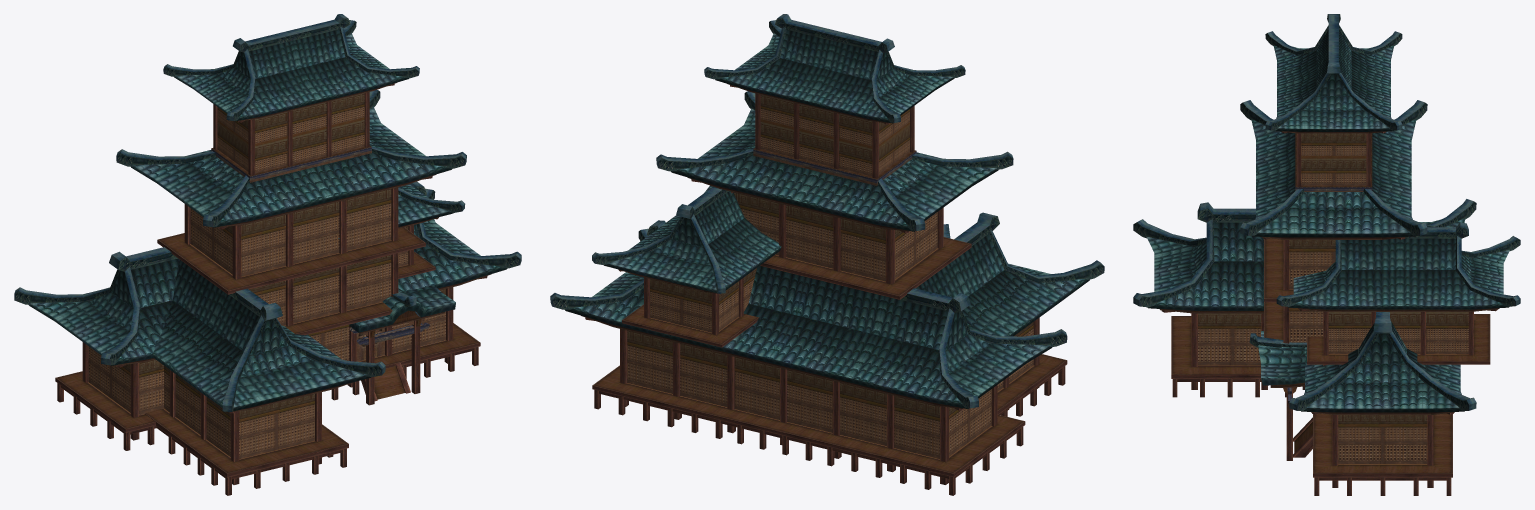
File: environment_Building_luoxiaguan_001_b.FBX
The picture shows the model from 3 angles, left to right: view 1: azimuth 30°, elevation 25°; view 2: azimuth 150°, elevation 25°; view 3: azimuth 270°, elevation 25°; orthographic projection. The views are drawn at different scales.
Visible parts, largest first — view 1: environment_Building_luoxiaguan_001_b; view 2: environment_Building_luoxiaguan_001_b; view 3: environment_Building_luoxiaguan_001_b.
Boxes of the visible parts, x1,y1,x2,y2 form: environment_Building_luoxiaguan_001_b: (14, 14, 521, 495); environment_Building_luoxiaguan_001_b: (550, 14, 1104, 495); environment_Building_luoxiaguan_001_b: (1133, 14, 1520, 495).
Bounding box in the file's own units: 1728 × 1385 × 1464.
1 material, 1 textured.
